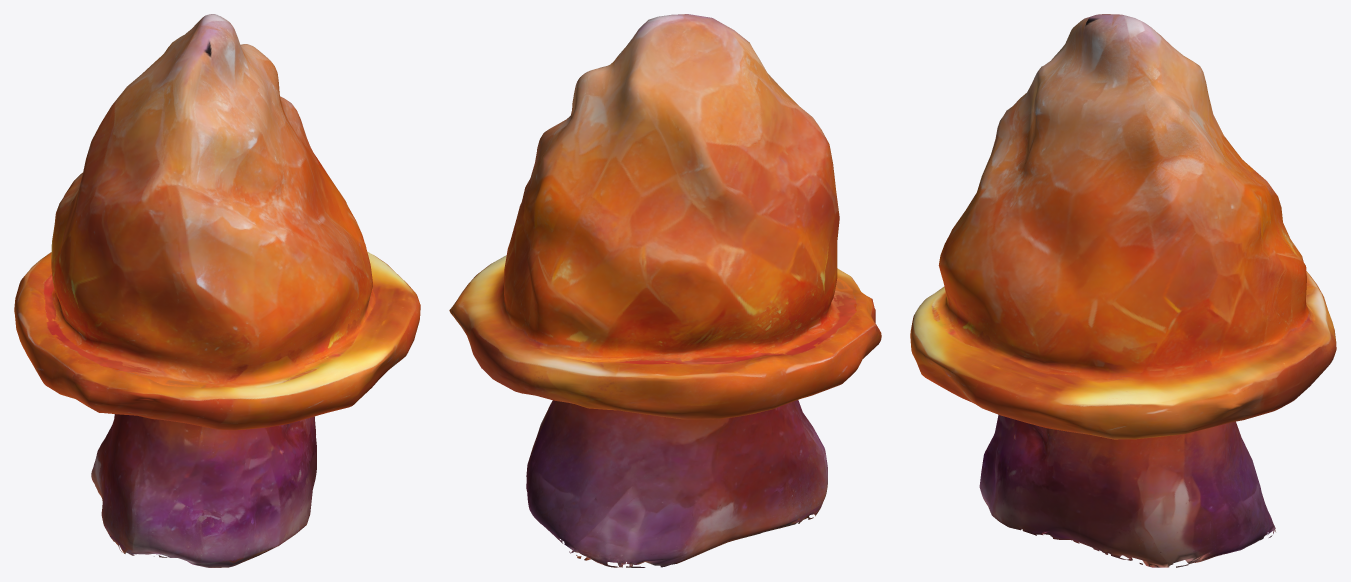
Rendered from Luminous_Hearthstone_A.fbx.
3 views of the same model, side by side, from view 1: azimuth 30°, elevation 25°; view 2: azimuth 150°, elevation 25°; view 3: azimuth 270°, elevation 25° (orthographic). The views are drawn at different scales.
Parts seen in each view (by area): view 1: input; view 2: input; view 3: input.
Part boxes in pixels (bbox=[...]): input: bbox=[14, 14, 420, 567]; input: bbox=[449, 14, 881, 567]; input: bbox=[910, 14, 1336, 567].
Size of the model in its own units: 150 by 199 by 151.
Materials: 1 (1 with a texture image).
